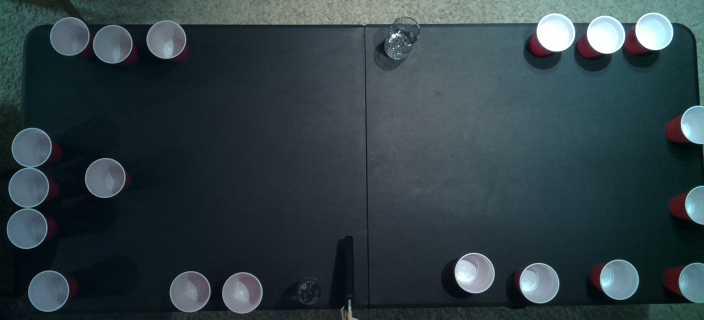active bp cup: (6, 166, 51, 207), (5, 207, 48, 249), (84, 157, 127, 198), (10, 126, 53, 167), (680, 104, 703, 146), (683, 185, 703, 227)
inactive bp cup: (451, 252, 495, 295), (167, 271, 211, 314), (594, 258, 639, 300), (26, 269, 69, 311), (221, 271, 263, 314), (518, 261, 560, 303), (584, 14, 625, 55), (47, 16, 89, 56), (92, 24, 133, 64), (145, 19, 186, 59), (535, 12, 575, 52), (633, 11, 674, 50), (675, 260, 703, 303)
